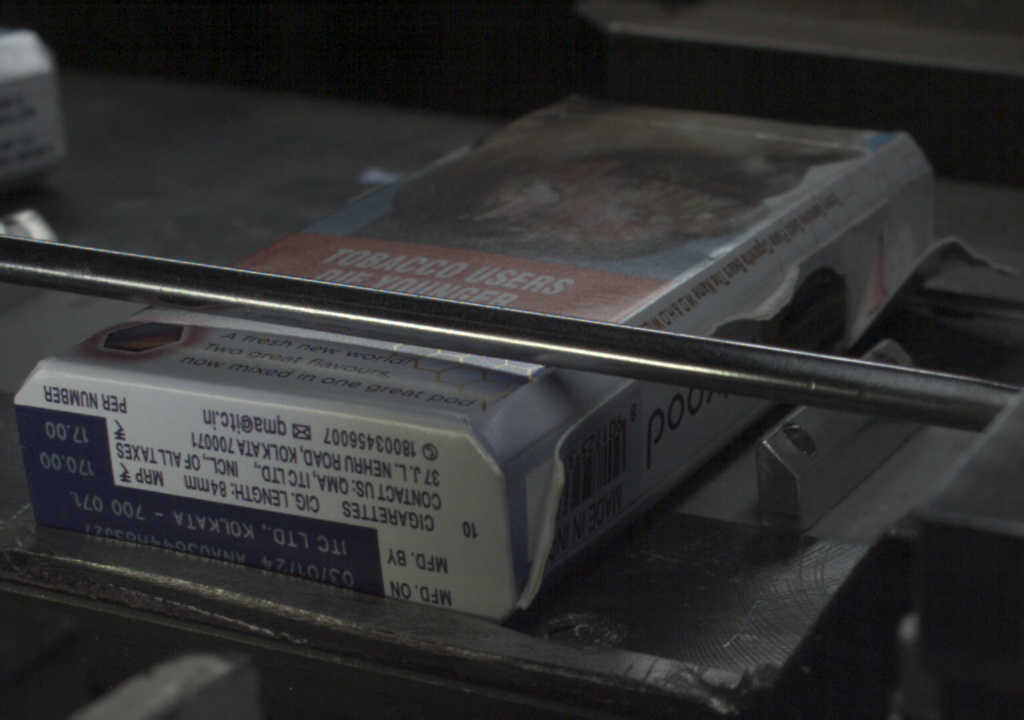g_bottom: (8, 361, 499, 622)
g_label: (27, 480, 383, 592)
ng_lmiter: (512, 428, 572, 610), (712, 257, 810, 330)
ng_miter: (898, 192, 1016, 272)
price: (28, 411, 115, 479)
